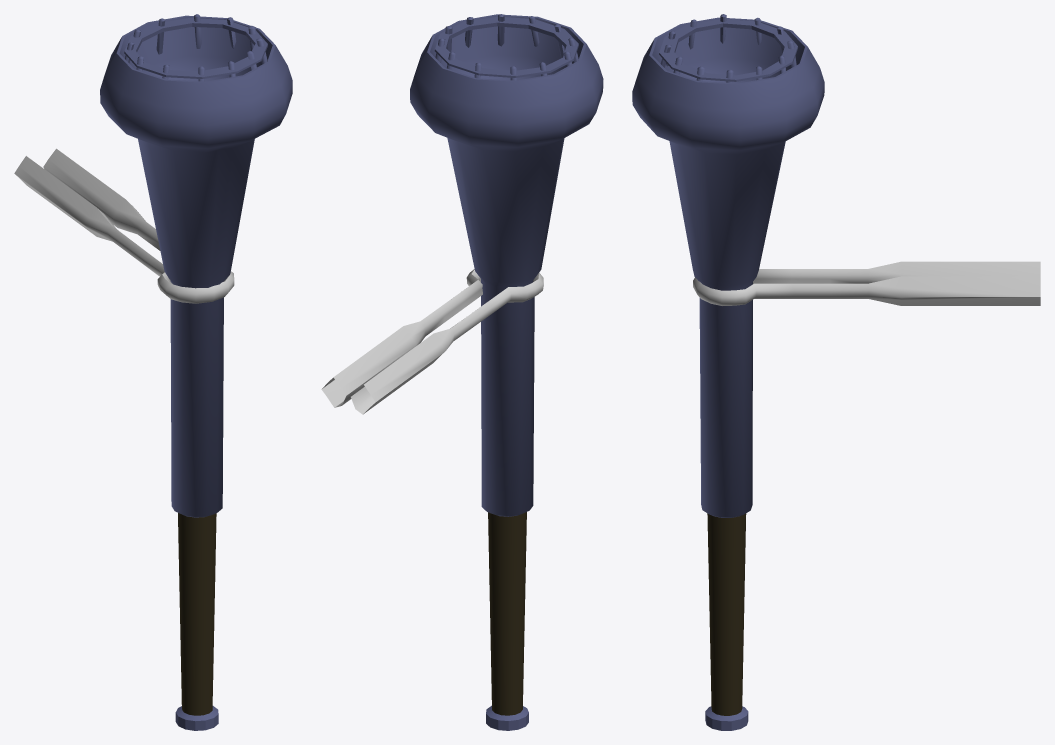
File: TorchWall_16.fbx
3 renders of one model, left to right at view 1: azimuth 30°, elevation 25°; view 2: azimuth 150°, elevation 25°; view 3: azimuth 270°, elevation 25°, orthographic.
Visible parts, largest first — view 1: TorchWall_16; view 2: TorchWall_16; view 3: TorchWall_16.
Boxes of the visible parts, left/top/right/bottom form: TorchWall_16: left=14, top=14, right=292, bottom=730; TorchWall_16: left=321, top=14, right=603, bottom=730; TorchWall_16: left=632, top=14, right=1040, bottom=730.
Size of the model in its own units: 15.21 by 32.29 by 59.77.
